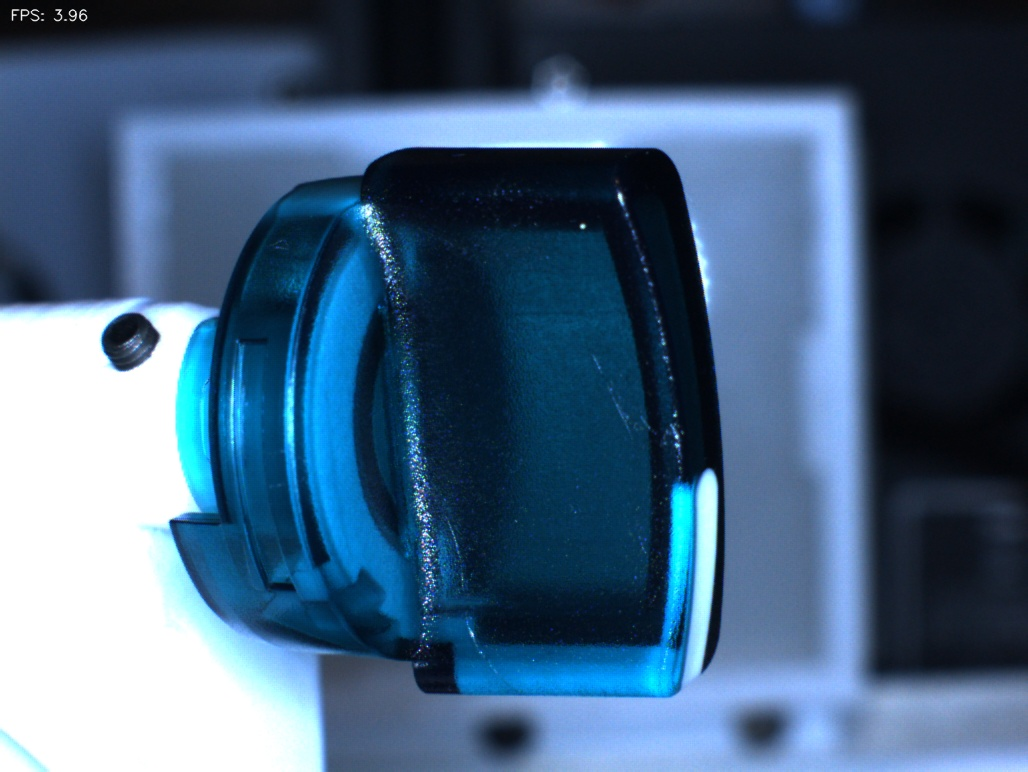Givrage: (571, 342, 672, 481)
